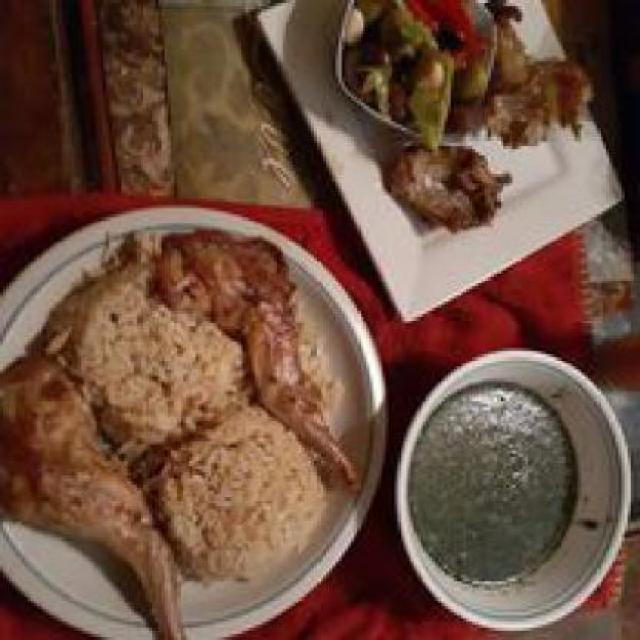fried rice: (49, 273, 320, 587)
molokhia: (400, 370, 618, 612)
